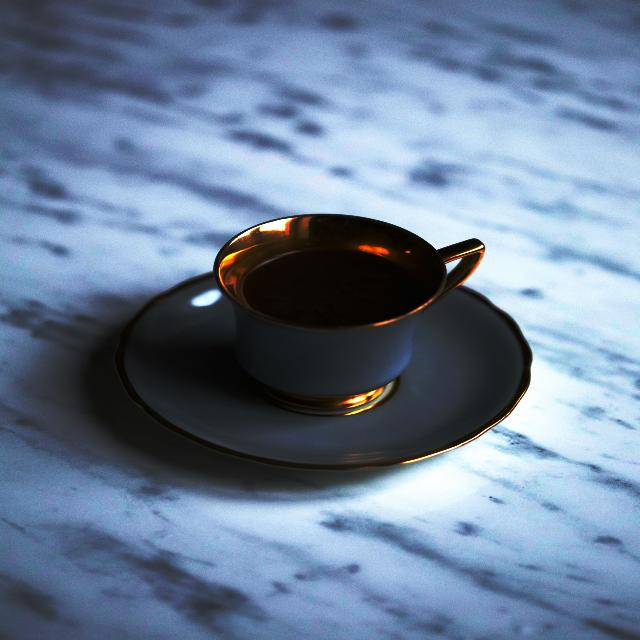drink: (218, 214, 482, 396)
